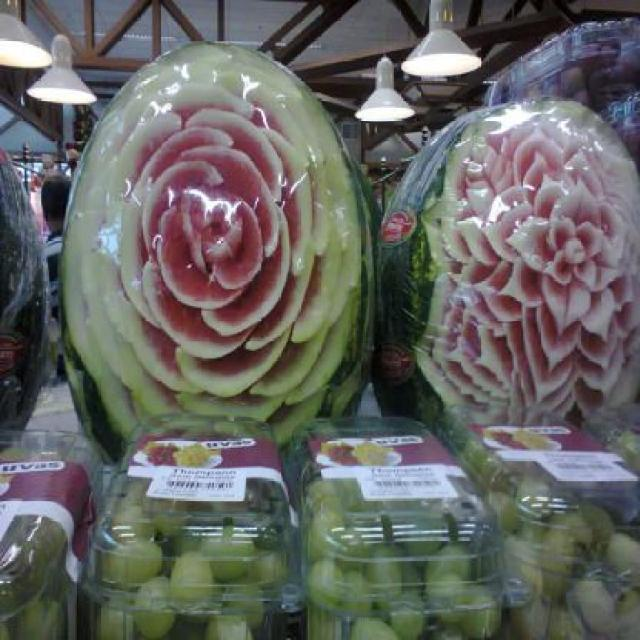Watermelon: (59, 39, 379, 467), (378, 94, 639, 434), (0, 144, 52, 452)
